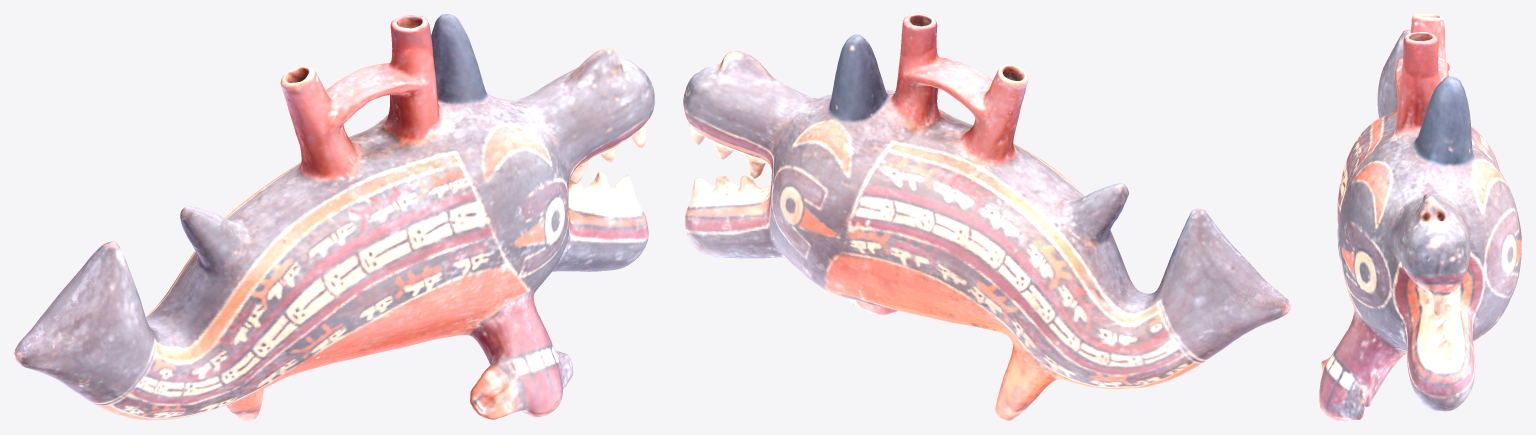
File: botella_nasca.glb
The picture shows the model from 3 angles, left to right: view 1: azimuth 30°, elevation 25°; view 2: azimuth 150°, elevation 25°; view 3: azimuth 270°, elevation 25°; orthographic projection. The views are drawn at different scales.
Parts seen in each view (by area): view 1: Object_2, Object_4, Object_3, Object_5; view 2: Object_3, Object_2, Object_4, Object_5; view 3: Object_2, Object_3, Object_4, Object_5.
Boxes of the visible parts, x1,y1,x2,y2 form: Object_2: (23, 14, 654, 375); Object_4: (14, 17, 654, 419); Object_3: (21, 14, 627, 420); Object_5: (226, 98, 573, 420); Object_3: (686, 16, 1284, 420); Object_2: (683, 14, 1281, 338); Object_4: (683, 14, 1290, 407); Object_5: (765, 97, 1063, 419); Object_2: (1337, 14, 1521, 405); Object_3: (1337, 14, 1521, 384); Object_4: (1377, 29, 1488, 411); Object_5: (1319, 239, 1486, 420).
Size of the model in its own units: 9.53 by 5.46 by 2.83.
